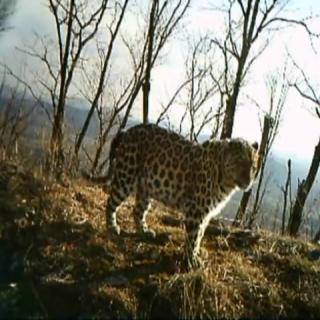Leopard: (103, 108, 255, 262)
